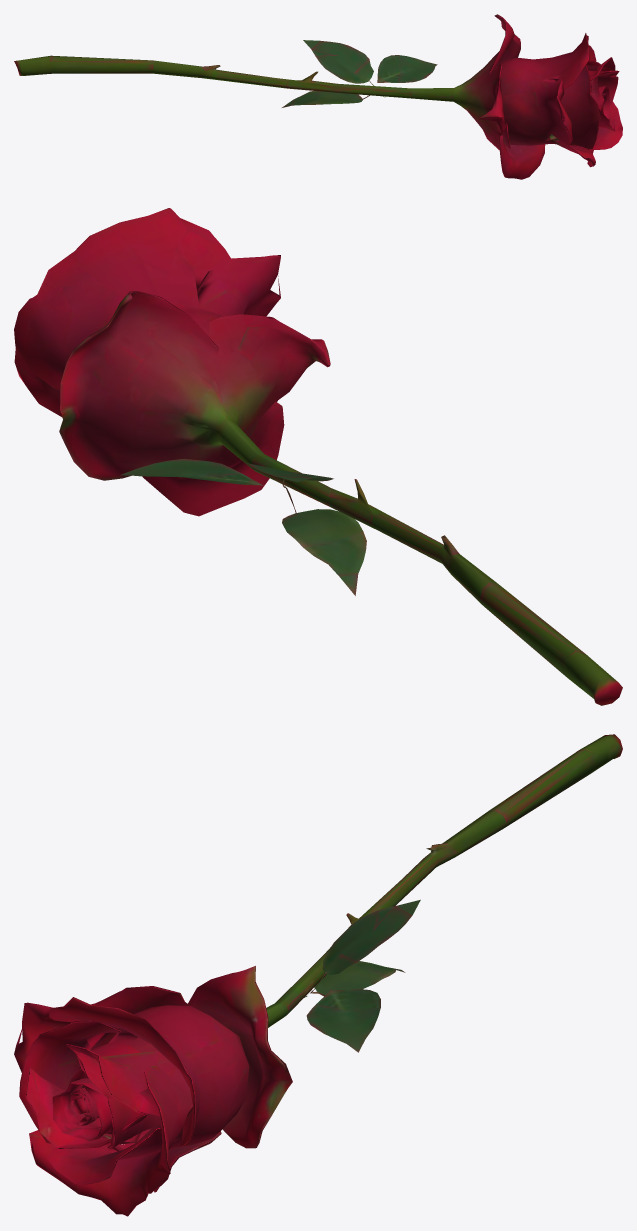
File: rose.glb
3 renders of one model, top to bottom at view 1: azimuth 30°, elevation 25°; view 2: azimuth 150°, elevation 25°; view 3: azimuth 270°, elevation 25°, orthographic. The views are drawn at different scales.
Size of the model in its own units: 0.9517 by 0.2773 by 0.6757.
Materials: 1 (1 with a texture image).
